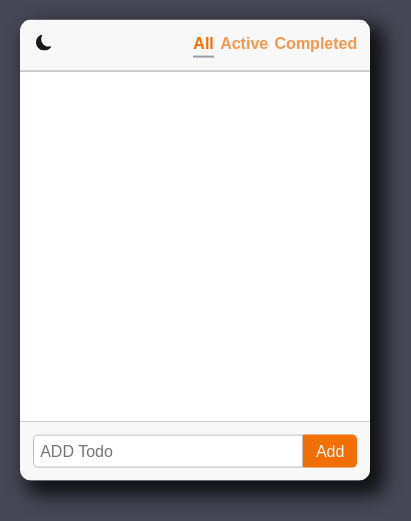
Test: to-do list App › deletes an item
Type "Studying React" into the field with placeholder "ADD Todo" at point(168, 452), box [33,435,303,468]
Click the button titled "add button" at point(330, 452), box [303,435,357,468]
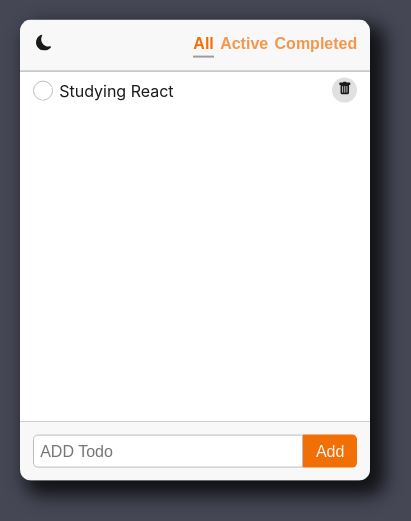
Type "Eating" into the field with placeholder "ADD Todo" at point(168, 452), box [33,435,303,468]
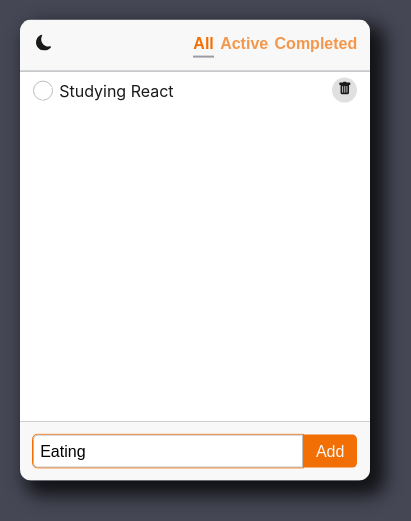
Click the button titled "add button" at point(330, 452), box [303,435,357,468]
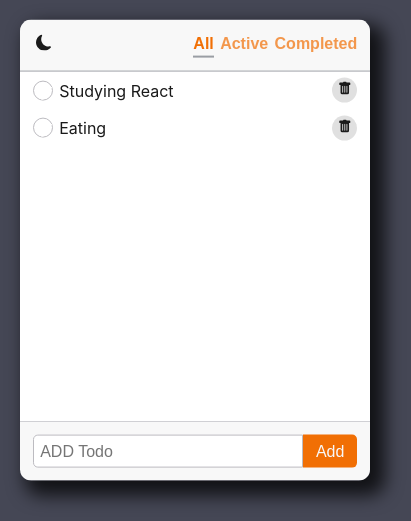
Type "Sleeping" into the field with placeholder "ADD Todo" at point(168, 452), box [33,435,303,468]
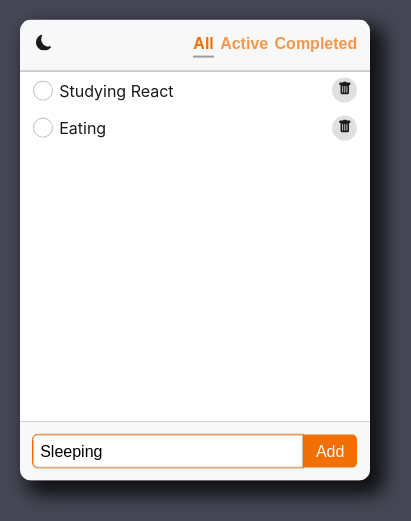
Click the button titled "add button" at point(330, 452), box [303,435,357,468]
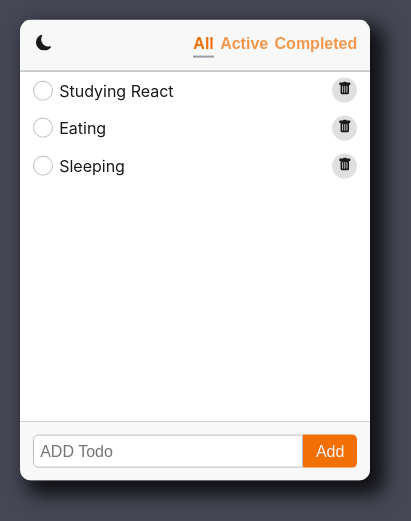
Click the button titled "delete button" next to "Studying React" at point(345, 91), box [332,78,357,103]
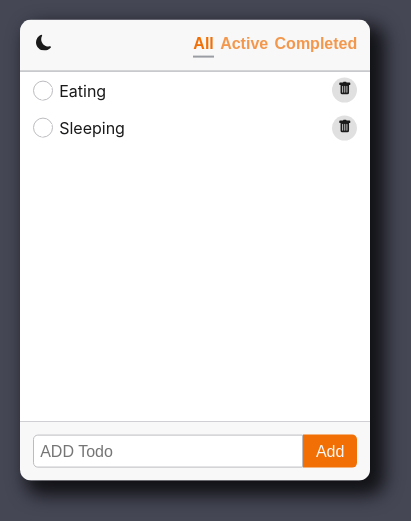
Expected: the text "Eating" is shown, [59,80,106,100]
Expected: the text "Sleeping" is shown, [59,118,125,138]
Expected: the text "Studying React" is gone
